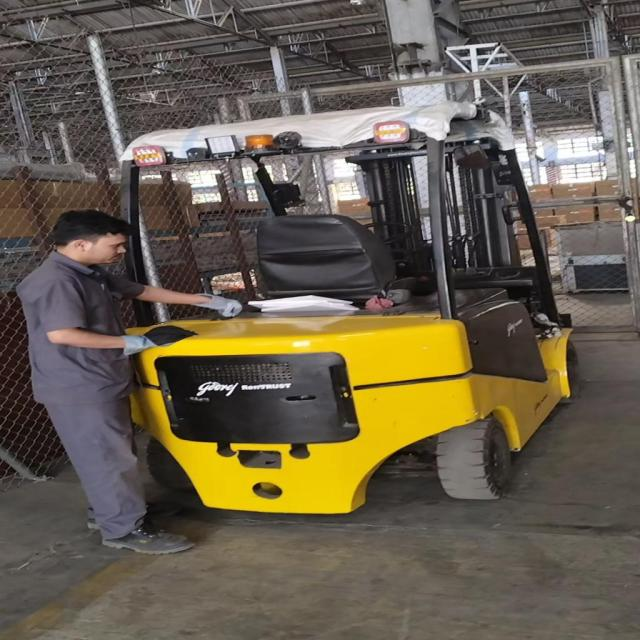Gloves-Detection: (123, 326, 190, 354), (188, 293, 254, 318)
